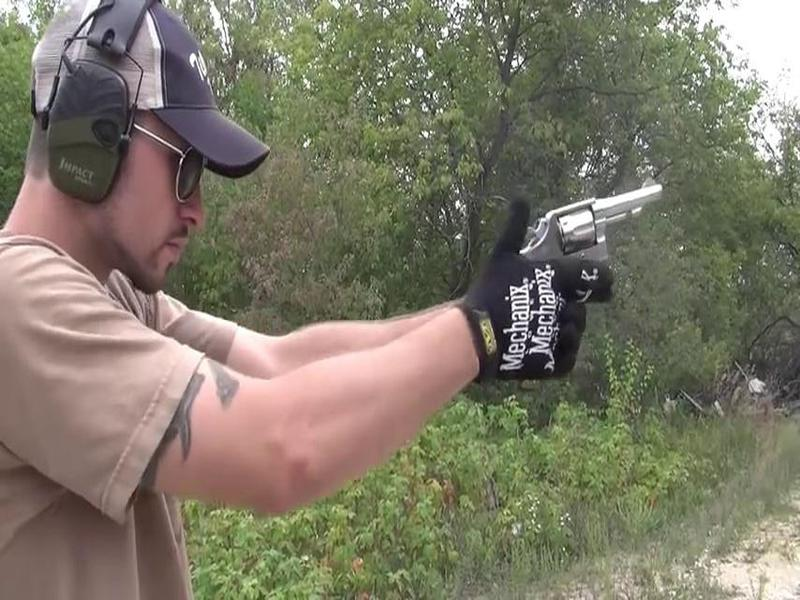Revolver: (521, 175, 667, 270)
